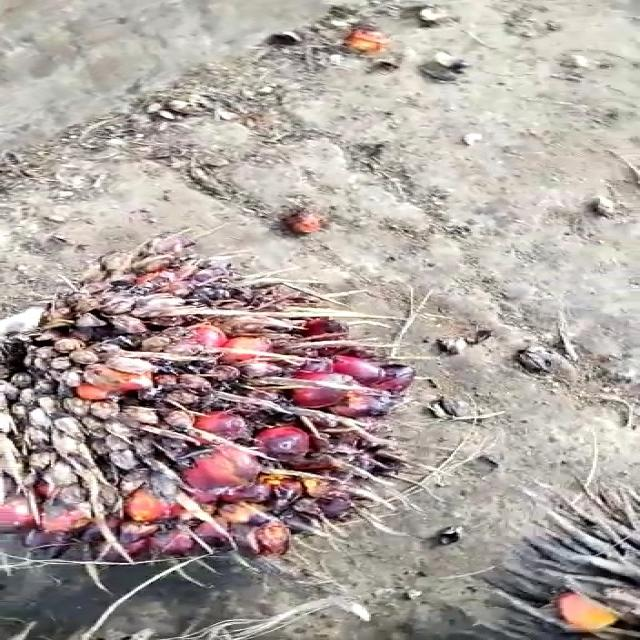palm oil: (0, 223, 459, 592)
